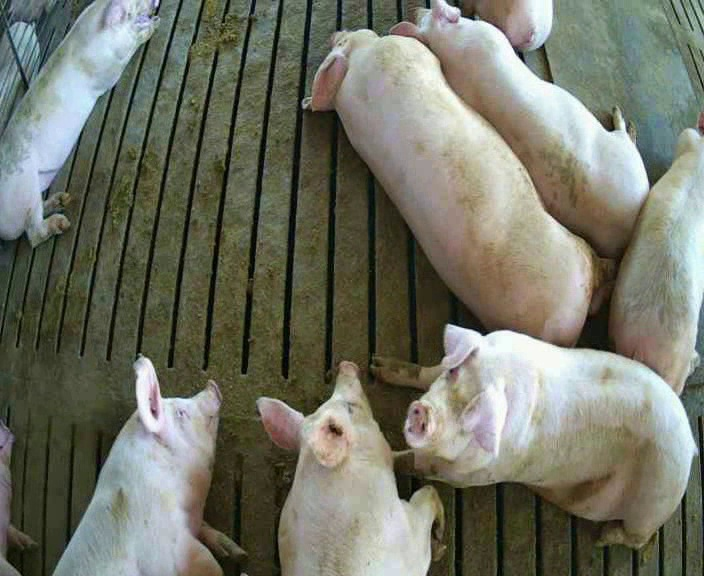pig: (301, 30, 616, 344), (370, 324, 696, 547), (391, 2, 648, 256), (55, 356, 246, 574), (257, 363, 445, 574), (0, 2, 157, 246), (609, 112, 703, 393), (462, 0, 552, 51)
